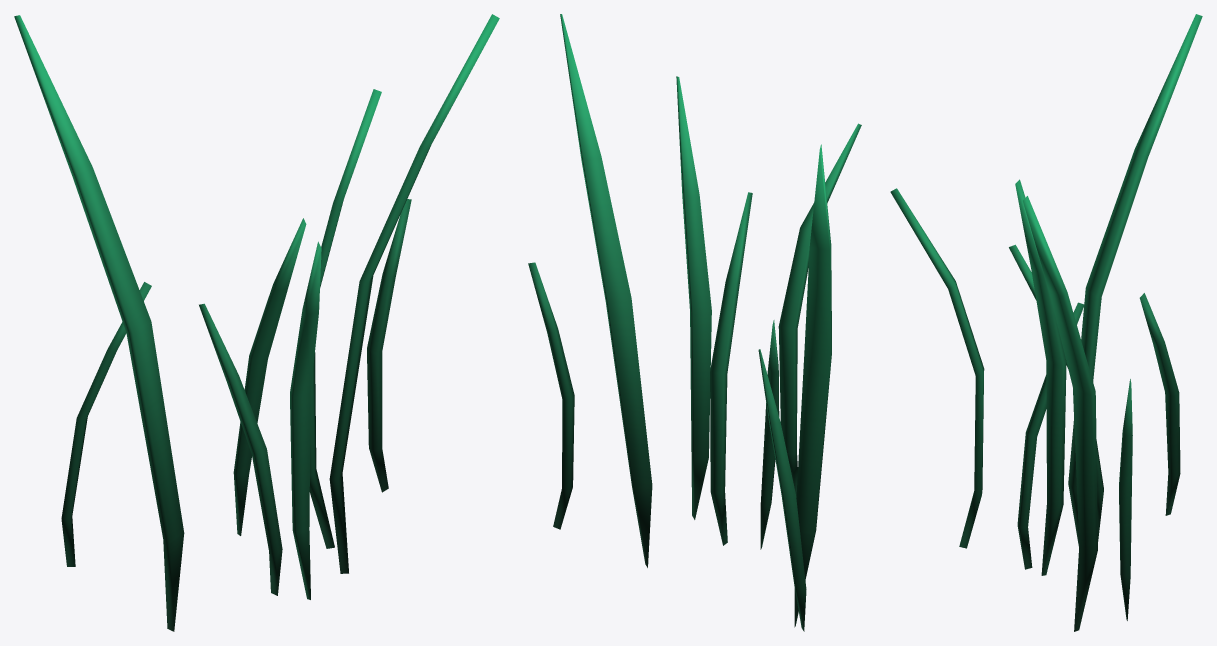
The model's file is grass8.fbx.
3 views of the same model, side by side, from view 1: azimuth 30°, elevation 25°; view 2: azimuth 150°, elevation 25°; view 3: azimuth 270°, elevation 25° (orthographic). The views are drawn at different scales.
Parts seen in each view (by area): view 1: grass5; view 2: grass5; view 3: grass5.
Boxes of the visible parts, x1,y1,x2,y2 form: grass5: (14, 14, 499, 631); grass5: (528, 14, 861, 631); grass5: (890, 14, 1202, 631).
Bounding box in the file's own units: 147 × 216 × 117.
